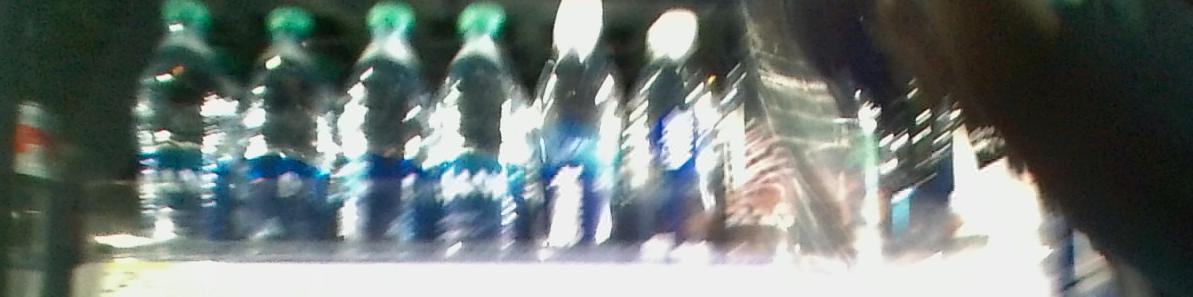bottle: (133, 3, 232, 248), (434, 1, 526, 263), (632, 7, 725, 262), (237, 10, 331, 260), (535, 1, 625, 260), (340, 6, 425, 265)
